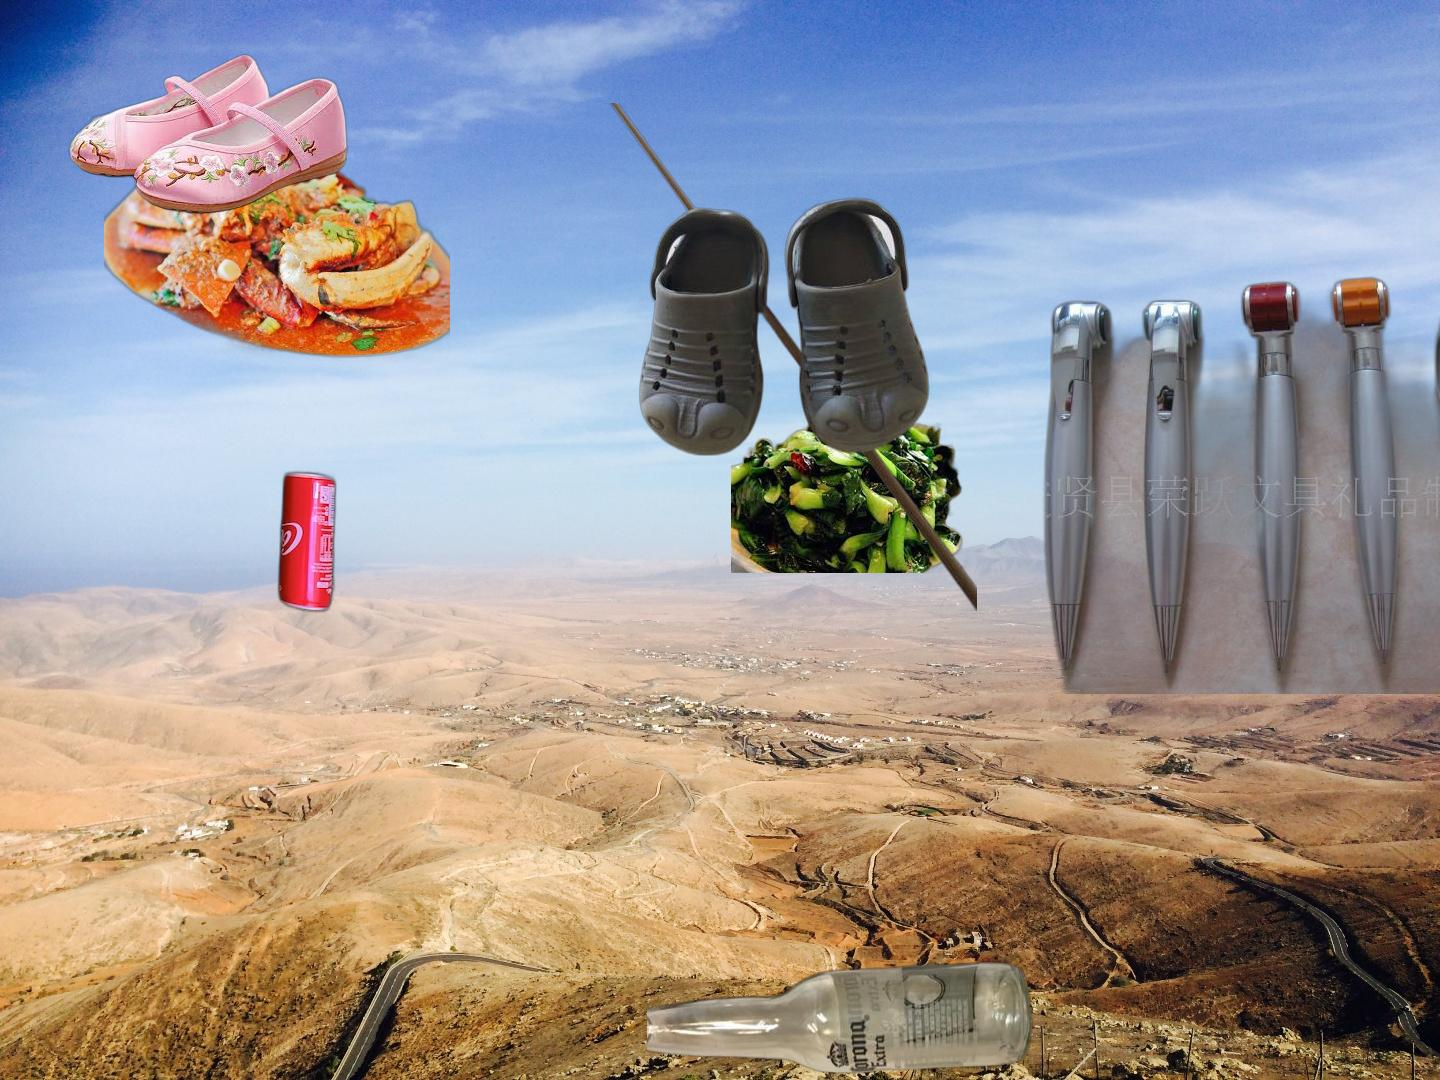biological: (104, 113, 450, 410), (731, 403, 965, 573)
glass: (647, 957, 1036, 1075)
metal-cans: (273, 466, 341, 617)
penholder: (1039, 275, 1440, 694)
shoes: (605, 103, 977, 614), (68, 52, 350, 217)
